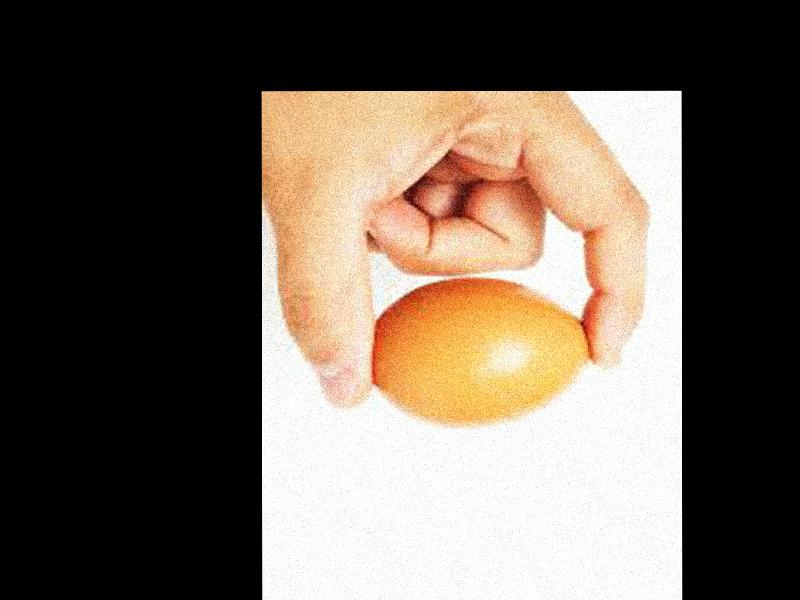Eggs: (371, 276, 594, 429)
